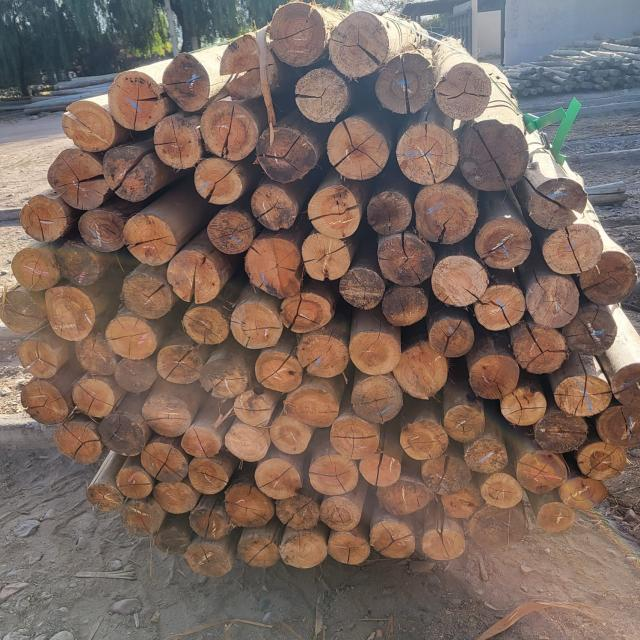package: (4, 2, 638, 570)
